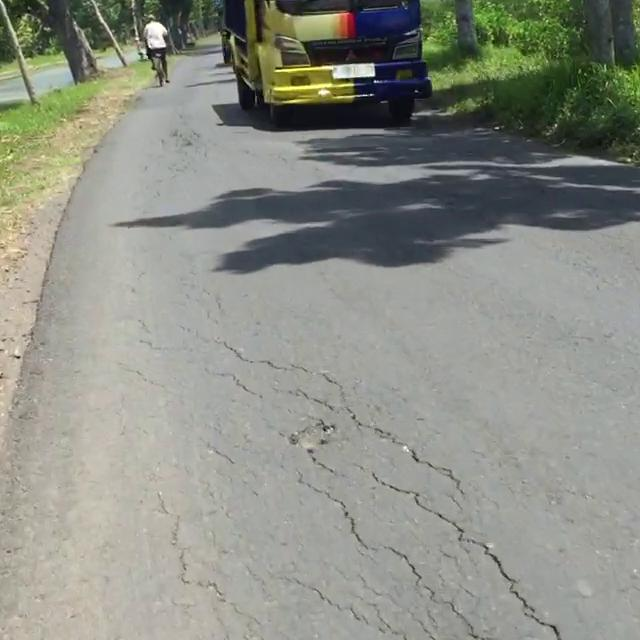retak_kulit_buaya: (172, 364, 592, 640)
